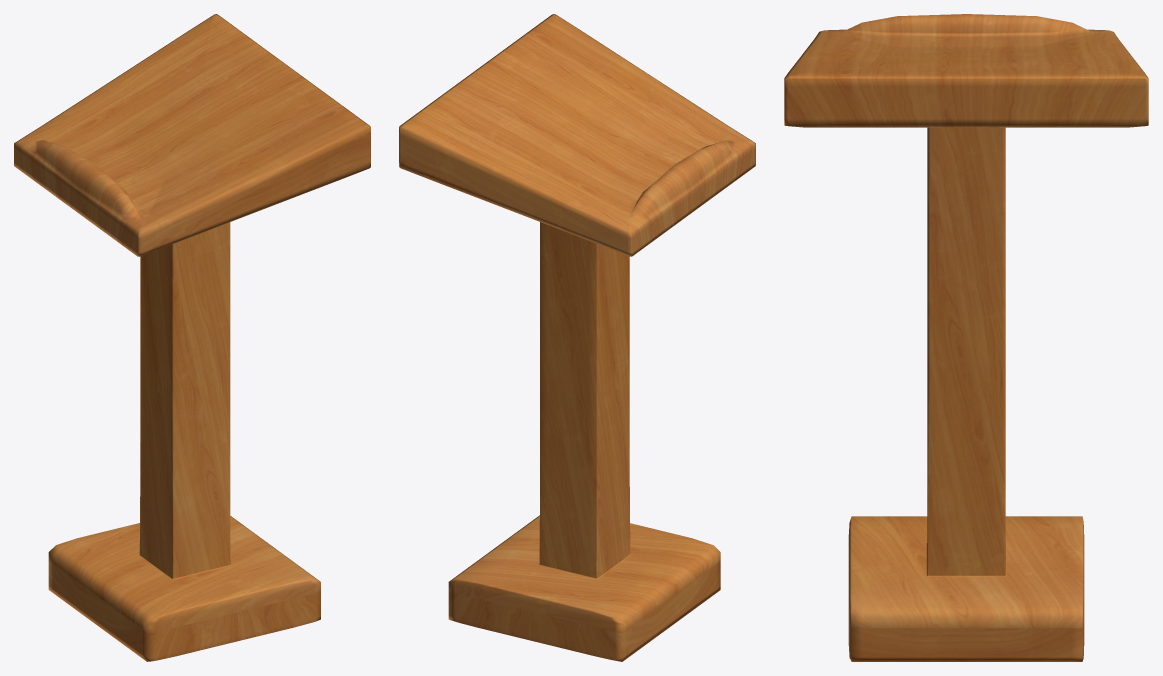
The model's file is podest.fbx.
The picture shows the model from 3 angles, left to right: view 1: azimuth 30°, elevation 25°; view 2: azimuth 150°, elevation 25°; view 3: azimuth 270°, elevation 25°; orthographic projection. The views are drawn at different scales.
Visible parts, largest first — view 1: pCube1; view 2: pCube1; view 3: pCube1.
Part boxes in pixels (box(x1,y1,x2,y2)): pCube1: box(14, 14, 370, 661); pCube1: box(399, 14, 755, 661); pCube1: box(784, 14, 1148, 661).
Size of the model in its own units: 5.02 by 6.2 by 11.21.
1 material, 1 textured.
